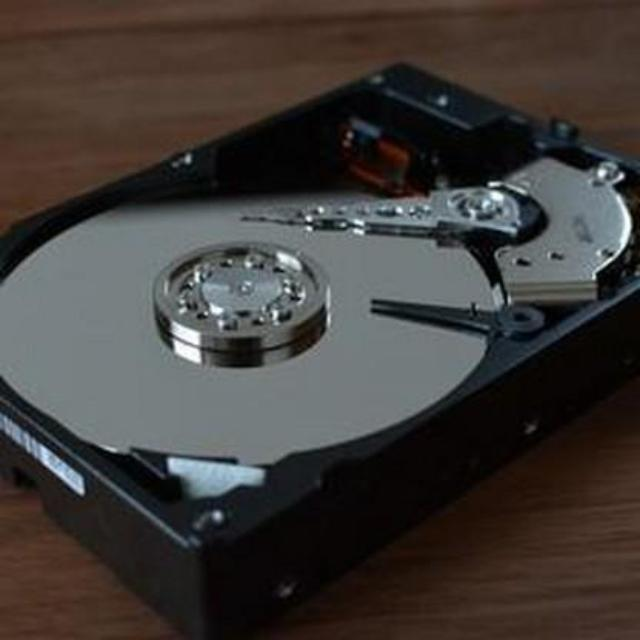DISK: (0, 69, 628, 624)
